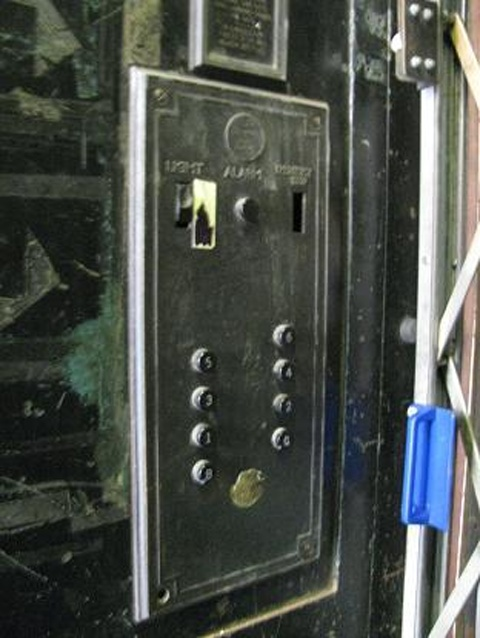0: (269, 425, 297, 454)
1: (189, 421, 217, 450)
2: (270, 392, 298, 421)
3: (189, 384, 217, 413)
4: (270, 357, 298, 386)
5: (190, 346, 218, 375)
6: (270, 322, 298, 351)
B: (189, 457, 217, 486)
empty: (234, 194, 261, 227)
